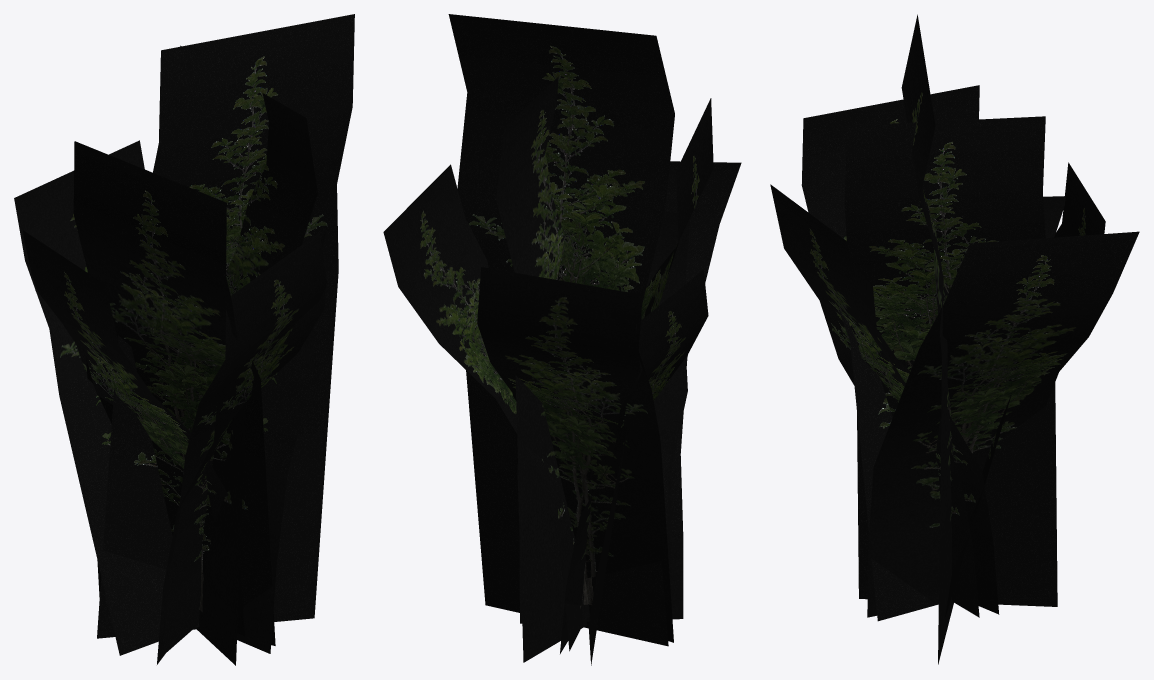
Rendered from tree_1.fbx.
The picture shows the model from 3 angles, left to right: view 1: azimuth 30°, elevation 25°; view 2: azimuth 150°, elevation 25°; view 3: azimuth 270°, elevation 25°; orthographic projection. The views are drawn at different scales.
Visible parts, largest first — view 1: tree_1; view 2: tree_1; view 3: tree_1.
Boxes of the visible parts, x1,y1,x2,y2 form: tree_1: (14,14,354,665); tree_1: (383,14,741,665); tree_1: (770,14,1139,664).
Size of the model in its own units: 1.97 by 2.5 by 4.3.
